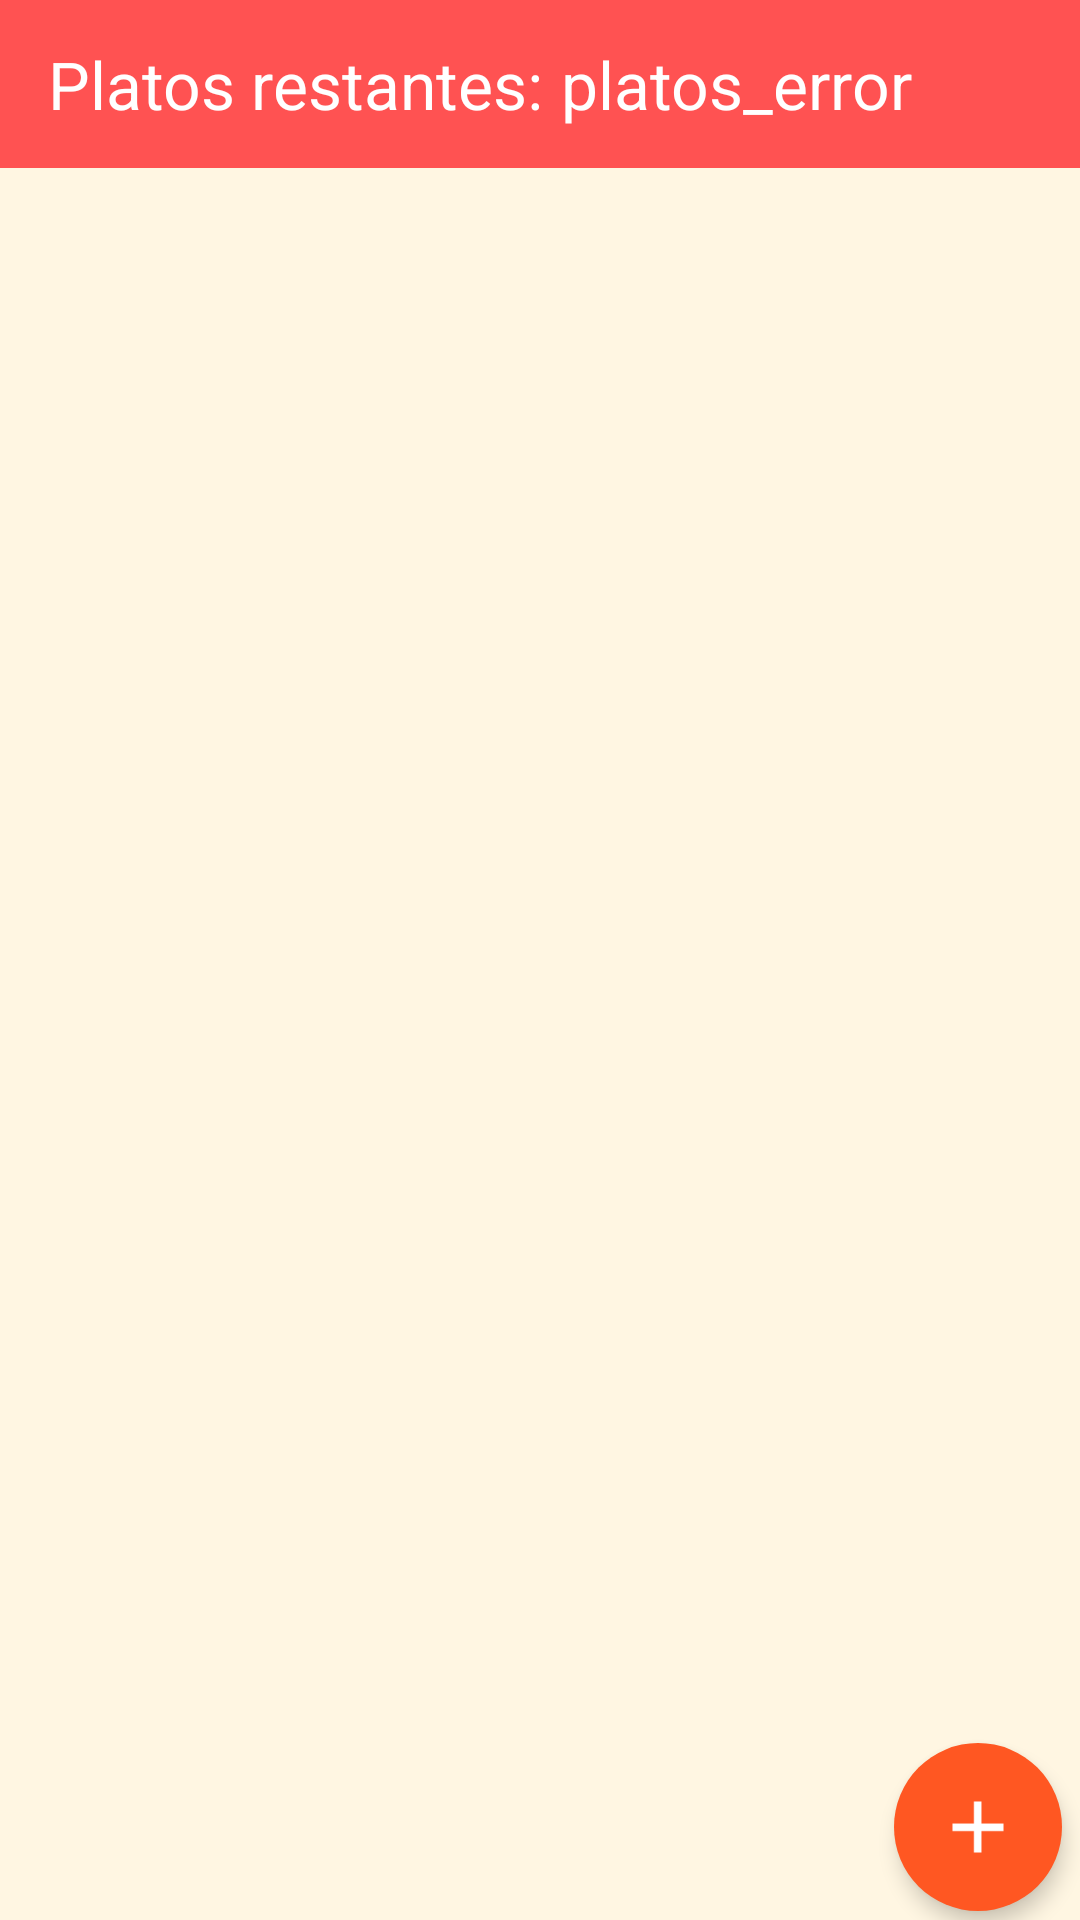

Icons on this 1080*1920 Android screen, each with its box as (x1, y1, x2, y2):
nuevo mas: (894, 1743, 1062, 1911)
